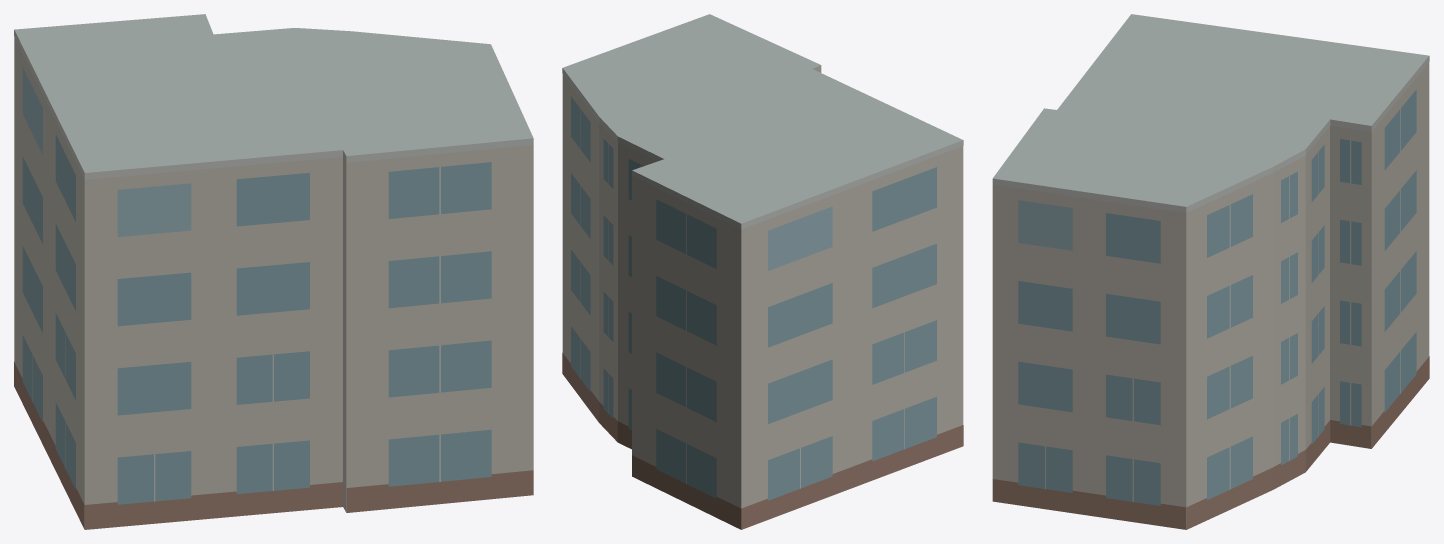
Rendered from survey-upis-32470379.glb.
3 renders of one model, left to right at view 1: azimuth 30°, elevation 25°; view 2: azimuth 150°, elevation 25°; view 3: azimuth 270°, elevation 25°, orthographic. The views are drawn at different scales.
Visible parts, largest first — view 1: survey-upis-32470379.tmp; view 2: survey-upis-32470379.tmp; view 3: survey-upis-32470379.tmp.
Boxes of the visible parts, bbox=[...] form: survey-upis-32470379.tmp: bbox=[14, 14, 533, 529]; survey-upis-32470379.tmp: bbox=[562, 14, 963, 529]; survey-upis-32470379.tmp: bbox=[992, 14, 1429, 529].
Size of the model in its own units: 16.66 by 13 by 15.94.
